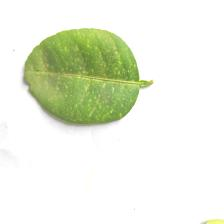greening: (21, 23, 160, 130)
